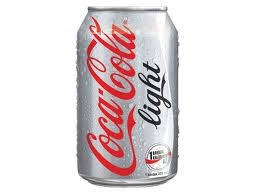can: (74, 4, 180, 187)
